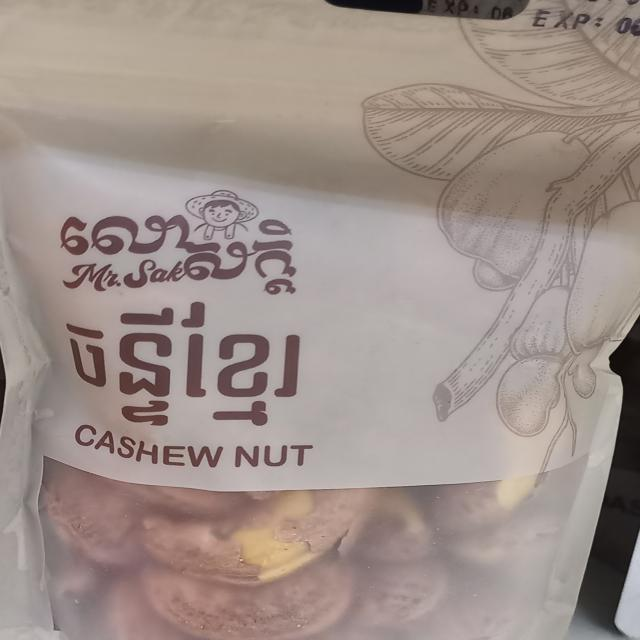Yolov11kh: (54, 298, 314, 430), (55, 212, 309, 296)
